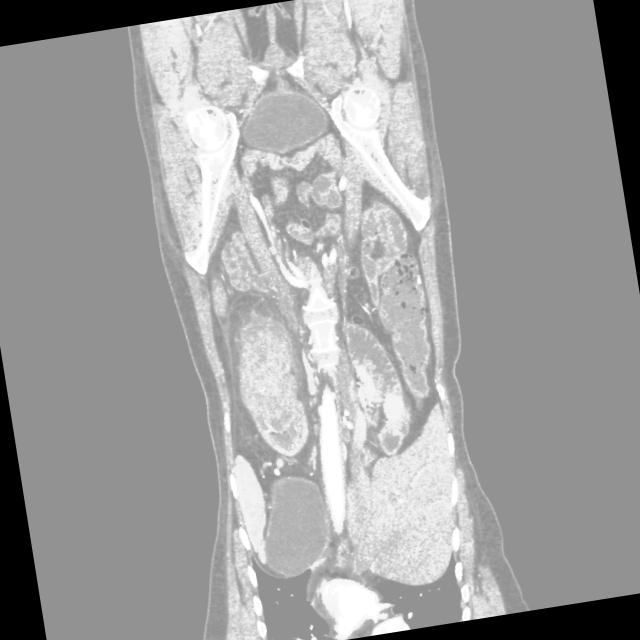TUMOR: (145, 147, 492, 499)
